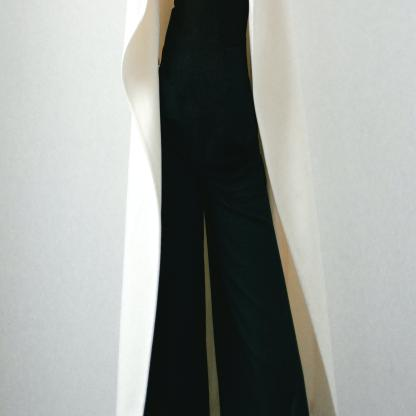dress: (145, 0, 311, 416)
